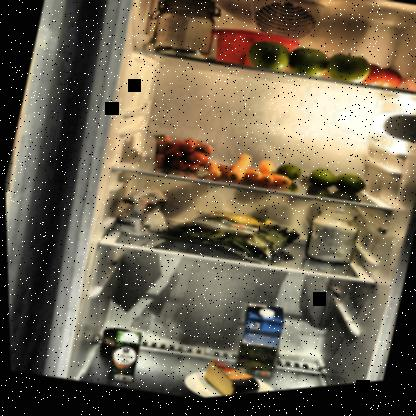apple: (241, 31, 375, 103)
butter: (205, 21, 303, 86)
carrot: (201, 145, 299, 206)
cheese: (193, 356, 264, 401)
corn: (95, 325, 136, 367)
heavy_cream: (102, 329, 143, 388)
lime: (272, 161, 368, 211)
milk: (227, 302, 288, 389)
spinach: (150, 194, 302, 284)
strawberries: (144, 130, 217, 185)
tomato: (357, 65, 408, 104)
